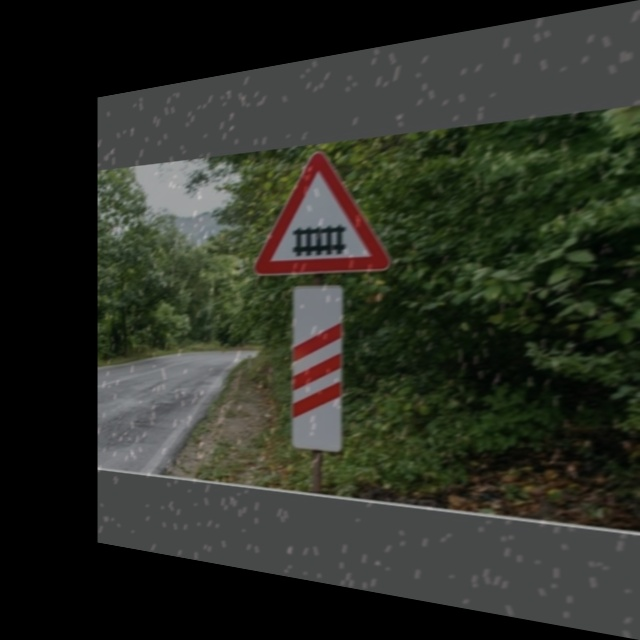Guarded_Level_Crossing: (254, 144, 392, 274)
